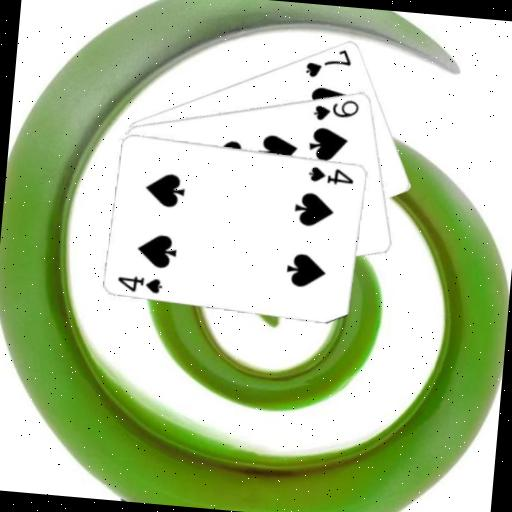4S: (305, 162, 357, 188), (113, 271, 165, 296)
7S: (302, 43, 355, 83)
9S: (309, 94, 362, 126)
